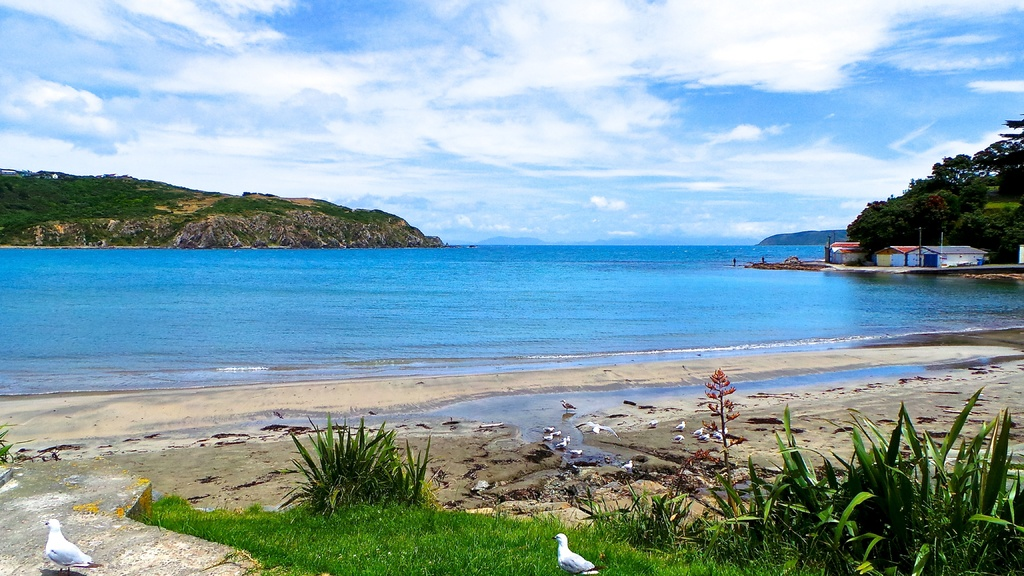Tree: (842, 113, 1023, 257), (0, 182, 172, 233)
